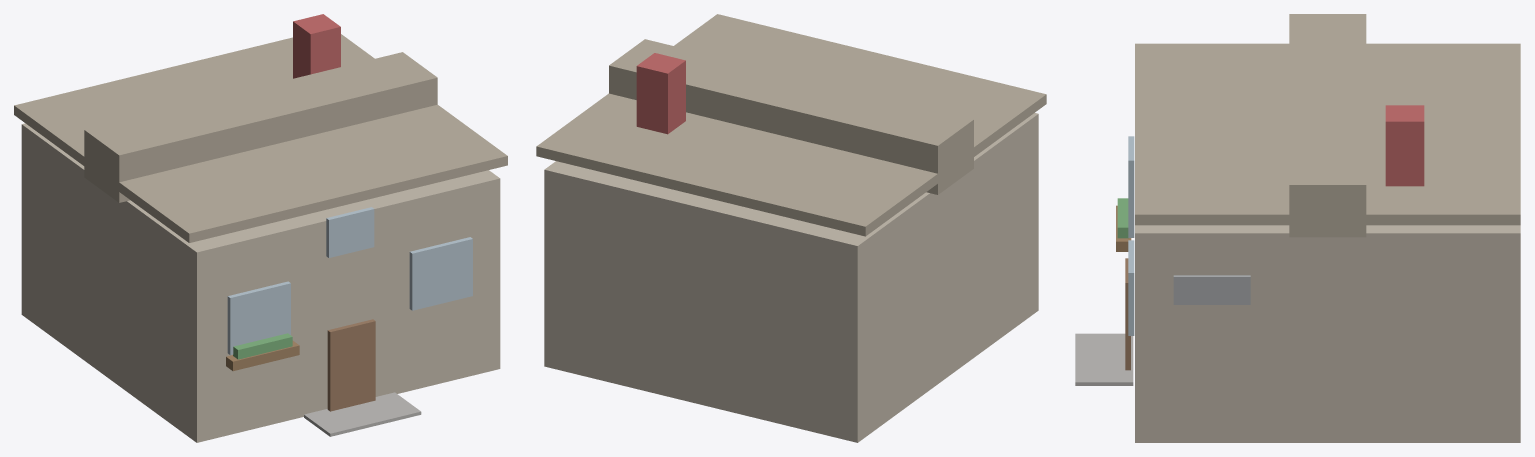
The model's file is building-player-home.glb.
3 renders of one model, left to right at view 1: azimuth 30°, elevation 25°; view 2: azimuth 150°, elevation 25°; view 3: azimuth 270°, elevation 25°, orthographic. The views are drawn at different scales.
Visible parts, largest first — view 1: building-player-home_part_0, building-player-home_part_2, building-player-home_part_3, building-player-home_part_1, building-player-home_part_5, building-player-home_part_7, building-player-home_part_6, building-player-home_part_4, building-player-home_part_11, building-player-home_part_8, building-player-home_part_12, building-player-home_part_13; view 2: building-player-home_part_0, building-player-home_part_1, building-player-home_part_3, building-player-home_part_2, building-player-home_part_4; view 3: building-player-home_part_0, building-player-home_part_2, building-player-home_part_1, building-player-home_part_3, building-player-home_part_4, building-player-home_part_11, building-player-home_part_14, building-player-home_part_7, building-player-home_part_5, building-player-home_part_13, building-player-home_part_8.
Boxes of the visible parts, box(x1,y1,x2,y2) form: building-player-home_part_0: box(21, 123, 500, 442); building-player-home_part_2: box(105, 104, 507, 242); building-player-home_part_3: box(84, 52, 437, 202); building-player-home_part_1: box(14, 34, 374, 184); building-player-home_part_5: box(327, 319, 375, 411); building-player-home_part_7: box(409, 237, 472, 310); building-player-home_part_6: box(227, 281, 290, 355); building-player-home_part_4: box(293, 14, 340, 78); building-player-home_part_11: box(304, 392, 421, 436); building-player-home_part_8: box(326, 207, 374, 257); building-player-home_part_12: box(226, 340, 299, 371); building-player-home_part_13: box(233, 333, 292, 359); building-player-home_part_0: box(544, 113, 1038, 442); building-player-home_part_1: box(536, 93, 937, 236); building-player-home_part_3: box(609, 39, 973, 194); building-player-home_part_2: box(674, 14, 1046, 176); building-player-home_part_4: box(636, 53, 685, 134); building-player-home_part_0: box(1135, 225, 1520, 442); building-player-home_part_2: box(1135, 43, 1346, 225); building-player-home_part_1: box(1308, 43, 1520, 225); building-player-home_part_3: box(1289, 14, 1366, 237); building-player-home_part_4: box(1385, 105, 1424, 186); building-player-home_part_11: box(1075, 333, 1133, 385); building-player-home_part_14: box(1173, 275, 1250, 304); building-player-home_part_7: box(1128, 240, 1134, 335); building-player-home_part_5: box(1125, 258, 1130, 370); building-player-home_part_13: box(1117, 198, 1128, 238); building-player-home_part_8: box(1128, 136, 1134, 202).
Bounding box in the file's own units: 10.5 × 8.5 × 11.55.
